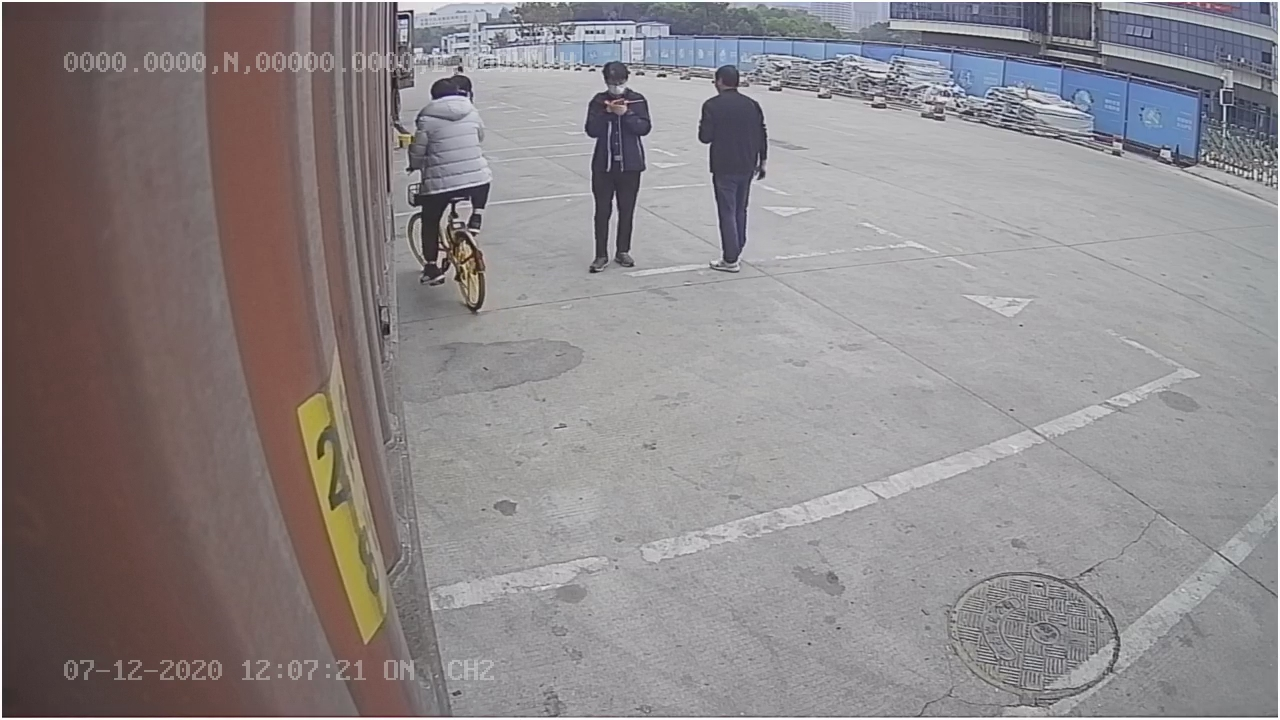person: (697, 61, 770, 277)
